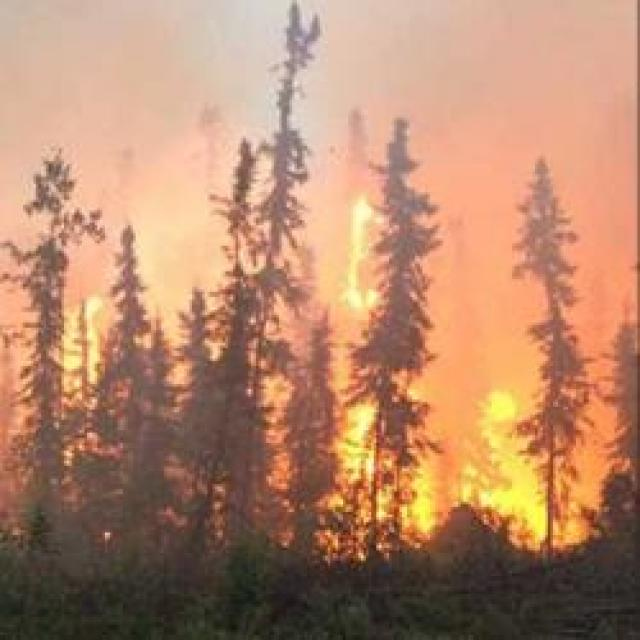fire: (460, 385, 584, 566), (336, 198, 391, 490), (58, 287, 114, 396), (396, 457, 442, 560)
